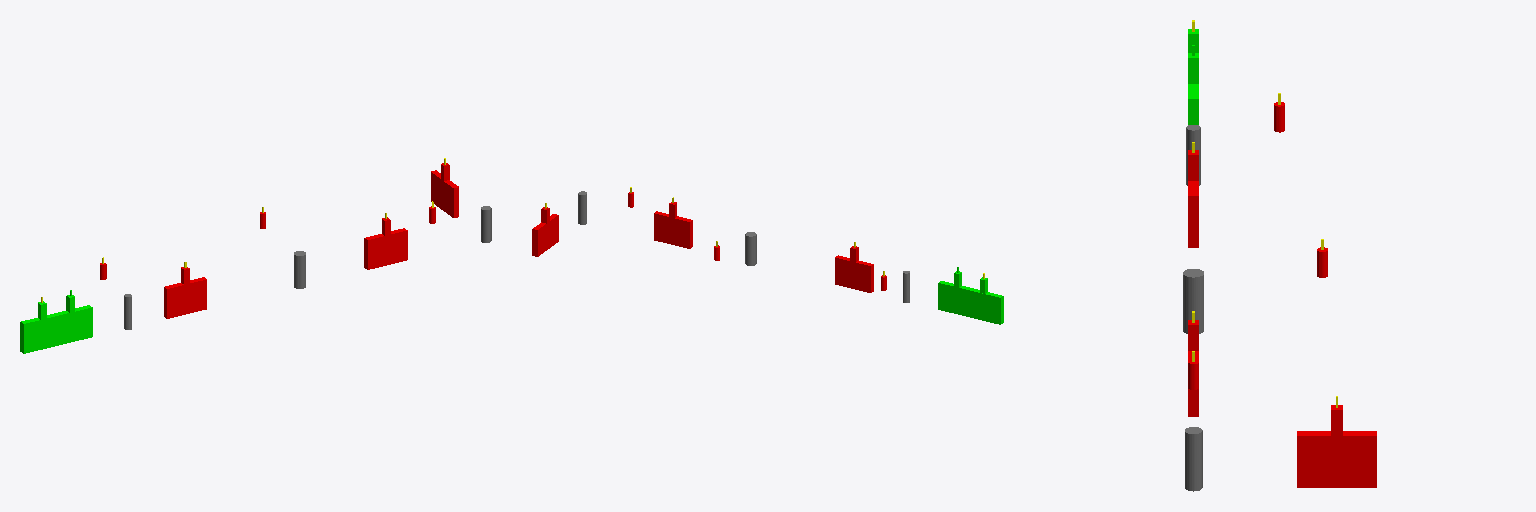
The robot description file, URDF, robot "lockbox_random3":
<?xml version="1.0"?>
<!-- created with Phobos 1.0.1 "Capricious Choutengan" -->
  <robot name="lockbox_random3">

    <link name="base_link">
    </link>

    <link name="goal">
      <visual name="visual_box_0_link_0.001">
        <origin xyz="0 0 0" rpy="0 0 0"/>
        <geometry>
          <box size="1.3976 0.1988 0.998"/>
        </geometry>
        <material name="green_translucent"/>
      </visual>
    </link>

    <link name="link_0_joint_0">
      <visual name="visual_box_0_link_0">
        <origin xyz="0 0 0" rpy="0 0 0"/>
        <geometry>
          <box size="1.399 0.199 0.999"/>
        </geometry>
        <material name="green"/>
      </visual>
      <collision name="collision_box_0_link_0">
        <origin xyz="0 0 0" rpy="0 0 0"/>
        <geometry>
          <box size="1.399 0.199 0.999"/>
        </geometry>
      </collision>
    </link>

    <link name="link_1_joint_0">
      <visual name="visual_mesh_3_link_1">
        <origin xyz="0 0 0" rpy="0 0 0"/>
        <geometry>
          <mesh filename="file://[local-path]/ba/puzzle-generator/puzzles/lockbox_random3/meshes/stl/slot_disc.stl" scale="1.0 1.0 1.0"/>
        </geometry>
        <material name="red"/>
      </visual>
      <collision concave="yes" name="collision_mesh_3_link_1">
        <origin xyz="0 0 0" rpy="0 0 0"/>
        <geometry>
          <mesh filename="file://[local-path]/ba/puzzle-generator/puzzles/lockbox_random3/meshes/stl/slot_disc.001.stl" scale="1.0 1.0 1.0"/>
        </geometry>
      </collision>
    </link>

    <link name="link_2_joint_0">
      <visual name="visual_box_7_link_2">
        <origin xyz="0 0 0" rpy="0 0 0"/>
        <geometry>
          <box size="1.399 0.199 0.999"/>
        </geometry>
        <material name="red"/>
      </visual>
      <collision name="collision_box_7_link_2">
        <origin xyz="0 0 0" rpy="0 0 0"/>
        <geometry>
          <box size="1.399 0.199 0.999"/>
        </geometry>
      </collision>
    </link>

    <link name="link_3_joint_0">
      <visual name="visual_mesh_10_link_3">
        <origin xyz="0 0 0" rpy="0 0 0"/>
        <geometry>
          <mesh filename="file://[local-path]/ba/puzzle-generator/puzzles/lockbox_random3/meshes/stl/slot_disc.002.stl" scale="1.0 1.0 1.0"/>
        </geometry>
        <material name="red"/>
      </visual>
      <collision concave="yes" name="collision_mesh_10_link_3">
        <origin xyz="0 0 0" rpy="0 0 0"/>
        <geometry>
          <mesh filename="file://[local-path]/ba/puzzle-generator/puzzles/lockbox_random3/meshes/stl/slot_disc.003.stl" scale="1.0 1.0 1.0"/>
        </geometry>
      </collision>
    </link>

    <link name="link_4_joint_0">
      <visual name="visual_box_14_link_4">
        <origin xyz="0 0 0" rpy="0 0 0"/>
        <geometry>
          <box size="1.399 0.199 0.999"/>
        </geometry>
        <material name="red"/>
      </visual>
      <collision name="collision_box_14_link_4">
        <origin xyz="0 0 0" rpy="0 0 0"/>
        <geometry>
          <box size="1.399 0.199 0.999"/>
        </geometry>
      </collision>
    </link>

    <link name="link_5_joint_0">
      <visual name="visual_mesh_17_link_5">
        <origin xyz="0 0 0" rpy="0 0 0"/>
        <geometry>
          <mesh filename="file://[local-path]/ba/puzzle-generator/puzzles/lockbox_random3/meshes/stl/slot_disc.004.stl" scale="1.0 1.0 1.0"/>
        </geometry>
        <material name="red"/>
      </visual>
      <collision concave="yes" name="collision_mesh_17_link_5">
        <origin xyz="0 0 0" rpy="0 0 0"/>
        <geometry>
          <mesh filename="file://[local-path]/ba/puzzle-generator/puzzles/lockbox_random3/meshes/stl/slot_disc.005.stl" scale="1.0 1.0 1.0"/>
        </geometry>
      </collision>
    </link>

    <link name="link_6_joint_0">
      <visual name="visual_box_21_link_6">
        <origin xyz="0 0 0" rpy="0 0 0"/>
        <geometry>
          <box size="1.399 0.199 0.999"/>
        </geometry>
        <material name="red"/>
      </visual>
      <collision name="collision_box_21_link_6">
        <origin xyz="0 0 0" rpy="0 0 0"/>
        <geometry>
          <box size="1.399 0.199 0.999"/>
        </geometry>
      </collision>
    </link>

    <link name="link_fixed_11_hinge">
      <visual name="visual_cylinder_fixed_11_hinge">
        <origin xyz="0 0 0" rpy="0 0 0"/>
        <geometry>
          <cylinder radius="0.187" length="1.099"/>
        </geometry>
        <material name="gray"/>
      </visual>
    </link>

    <link name="link_fixed_12_handle_shaft">
      <visual name="visual_cylinder_fixed_12_handle_shaft">
        <origin xyz="0 0 0" rpy="0 0 0"/>
        <geometry>
          <cylinder radius="0.0995" length="0.499"/>
        </geometry>
        <material name="red"/>
      </visual>
      <collision name="collision_cylinder_fixed_12_handle_shaft">
        <origin xyz="0 0 0" rpy="0 0 0"/>
        <geometry>
          <cylinder radius="0.0995" length="0.499"/>
        </geometry>
      </collision>
    </link>

    <link name="link_fixed_13_handle_knob">
      <visual name="visual_box_fixed_13_handle_knob">
        <origin xyz="0 0 0" rpy="0 0 0"/>
        <geometry>
          <box size="0.049 0.049 0.199"/>
        </geometry>
        <material name="yellow"/>
      </visual>
      <collision name="collision_box_fixed_13_handle_knob">
        <origin xyz="0 0 0" rpy="0 0 0"/>
        <geometry>
          <box size="0.049 0.049 0.199"/>
        </geometry>
      </collision>
    </link>

    <link name="link_fixed_15_handle_shaft">
      <visual name="visual_box_fixed_15_handle_shaft">
        <origin xyz="0 0 0" rpy="0 0 0"/>
        <geometry>
          <box size="0.199 0.199 0.499"/>
        </geometry>
        <material name="red"/>
      </visual>
      <collision name="collision_box_fixed_15_handle_shaft">
        <origin xyz="0 0 0" rpy="0 0 0"/>
        <geometry>
          <box size="0.199 0.199 0.499"/>
        </geometry>
      </collision>
    </link>

    <link name="link_fixed_16_handle_knob">
      <visual name="visual_box_fixed_16_handle_knob">
        <origin xyz="0 0 0" rpy="0 0 0"/>
        <geometry>
          <box size="0.049 0.049 0.199"/>
        </geometry>
        <material name="yellow"/>
      </visual>
      <collision name="collision_box_fixed_16_handle_knob">
        <origin xyz="0 0 0" rpy="0 0 0"/>
        <geometry>
          <box size="0.049 0.049 0.199"/>
        </geometry>
      </collision>
    </link>

    <link name="link_fixed_18_hinge">
      <visual name="visual_cylinder_fixed_18_hinge">
        <origin xyz="0 0 0" rpy="0 0 0"/>
        <geometry>
          <cylinder radius="0.15575" length="1.099"/>
        </geometry>
        <material name="gray"/>
      </visual>
    </link>

    <link name="link_fixed_19_handle_shaft">
      <visual name="visual_cylinder_fixed_19_handle_shaft">
        <origin xyz="0 0 0" rpy="0 0 0"/>
        <geometry>
          <cylinder radius="0.0995" length="0.499"/>
        </geometry>
        <material name="red"/>
      </visual>
      <collision name="collision_cylinder_fixed_19_handle_shaft">
        <origin xyz="0 0 0" rpy="0 0 0"/>
        <geometry>
          <cylinder radius="0.0995" length="0.499"/>
        </geometry>
      </collision>
    </link>

    <link name="link_fixed_1_handle_shaft">
      <visual name="visual_box_fixed_1_handle_shaft">
        <origin xyz="0 0 0" rpy="0 0 0"/>
        <geometry>
          <box size="0.199 0.199 0.499"/>
        </geometry>
        <material name="green"/>
      </visual>
      <collision name="collision_box_fixed_1_handle_shaft">
        <origin xyz="0 0 0" rpy="0 0 0"/>
        <geometry>
          <box size="0.199 0.199 0.499"/>
        </geometry>
      </collision>
    </link>

    <link name="link_fixed_1_handle_shaft.001">
      <visual name="visual_box_fixed_1_handle_shaft.001">
        <origin xyz="0 0 0" rpy="0 0 0"/>
        <geometry>
          <box size="0.1988 0.1988 0.4985"/>
        </geometry>
        <material name="green_translucent"/>
      </visual>
    </link>

    <link name="link_fixed_20_handle_knob">
      <visual name="visual_box_fixed_20_handle_knob">
        <origin xyz="0 0 0" rpy="0 0 0"/>
        <geometry>
          <box size="0.049 0.049 0.199"/>
        </geometry>
        <material name="yellow"/>
      </visual>
      <collision name="collision_box_fixed_20_handle_knob">
        <origin xyz="0 0 0" rpy="0 0 0"/>
        <geometry>
          <box size="0.049 0.049 0.199"/>
        </geometry>
      </collision>
    </link>

    <link name="link_fixed_22_handle_shaft">
      <visual name="visual_box_fixed_22_handle_shaft">
        <origin xyz="0 0 0" rpy="0 0 0"/>
        <geometry>
          <box size="0.199 0.199 0.499"/>
        </geometry>
        <material name="red"/>
      </visual>
      <collision name="collision_box_fixed_22_handle_shaft">
        <origin xyz="0 0 0" rpy="0 0 0"/>
        <geometry>
          <box size="0.199 0.199 0.499"/>
        </geometry>
      </collision>
    </link>

    <link name="link_fixed_23_handle_knob">
      <visual name="visual_box_fixed_23_handle_knob">
        <origin xyz="0 0 0" rpy="0 0 0"/>
        <geometry>
          <box size="0.049 0.049 0.199"/>
        </geometry>
        <material name="yellow"/>
      </visual>
      <collision name="collision_box_fixed_23_handle_knob">
        <origin xyz="0 0 0" rpy="0 0 0"/>
        <geometry>
          <box size="0.049 0.049 0.199"/>
        </geometry>
      </collision>
    </link>

    <link name="link_fixed_2_handle_knob">
      <visual name="visual_box_fixed_2_handle_knob">
        <origin xyz="0 0 0" rpy="0 0 0"/>
        <geometry>
          <box size="0.049 0.049 0.199"/>
        </geometry>
        <material name="yellow"/>
      </visual>
      <collision name="collision_box_fixed_2_handle_knob">
        <origin xyz="0 0 0" rpy="0 0 0"/>
        <geometry>
          <box size="0.049 0.049 0.199"/>
        </geometry>
      </collision>
    </link>

    <link name="link_fixed_2_handle_knob.001">
      <visual name="visual_box_fixed_2_handle_knob.001">
        <origin xyz="0 0 0" rpy="0 0 0"/>
        <geometry>
          <box size="0.04895 0.04895 0.1988"/>
        </geometry>
        <material name="green_translucent"/>
      </visual>
    </link>

    <link name="link_fixed_4_hinge">
      <visual name="visual_cylinder_fixed_4_hinge">
        <origin xyz="0 0 0" rpy="0 0 0"/>
        <geometry>
          <cylinder radius="0.1245" length="1.099"/>
        </geometry>
        <material name="gray"/>
      </visual>
    </link>

    <link name="link_fixed_5_handle_shaft">
      <visual name="visual_cylinder_fixed_5_handle_shaft">
        <origin xyz="0 0 0" rpy="0 0 0"/>
        <geometry>
          <cylinder radius="0.0995" length="0.499"/>
        </geometry>
        <material name="red"/>
      </visual>
      <collision name="collision_cylinder_fixed_5_handle_shaft">
        <origin xyz="0 0 0" rpy="0 0 0"/>
        <geometry>
          <cylinder radius="0.0995" length="0.499"/>
        </geometry>
      </collision>
    </link>

    <link name="link_fixed_6_handle_knob">
      <visual name="visual_box_fixed_6_handle_knob">
        <origin xyz="0 0 0" rpy="0 0 0"/>
        <geometry>
          <box size="0.049 0.049 0.199"/>
        </geometry>
        <material name="yellow"/>
      </visual>
      <collision name="collision_box_fixed_6_handle_knob">
        <origin xyz="0 0 0" rpy="0 0 0"/>
        <geometry>
          <box size="0.049 0.049 0.199"/>
        </geometry>
      </collision>
    </link>

    <link name="link_fixed_8_handle_shaft">
      <visual name="visual_box_fixed_8_handle_shaft">
        <origin xyz="0 0 0" rpy="0 0 0"/>
        <geometry>
          <box size="0.199 0.199 0.499"/>
        </geometry>
        <material name="red"/>
      </visual>
      <collision name="collision_box_fixed_8_handle_shaft">
        <origin xyz="0 0 0" rpy="0 0 0"/>
        <geometry>
          <box size="0.199 0.199 0.499"/>
        </geometry>
      </collision>
    </link>

    <link name="link_fixed_9_handle_knob">
      <visual name="visual_box_fixed_9_handle_knob">
        <origin xyz="0 0 0" rpy="0 0 0"/>
        <geometry>
          <box size="0.049 0.049 0.199"/>
        </geometry>
        <material name="yellow"/>
      </visual>
      <collision name="collision_box_fixed_9_handle_knob">
        <origin xyz="0 0 0" rpy="0 0 0"/>
        <geometry>
          <box size="0.049 0.049 0.199"/>
        </geometry>
      </collision>
    </link>

    <joint name="goal" type="fixed">
      <origin xyz="1.0 0 0.5" rpy="0 0 0"/>
      <parent link="base_link"/>
      <child link="goal"/>
      <limit effort="0" velocity="0"/>
    </joint>

    <joint name="link_0_joint_0" type="prismatic">
      <origin xyz="0 0 0.5" rpy="0 0 0"/>
      <parent link="base_link"/>
      <child link="link_0_joint_0"/>
      <axis xyz="1.0 0 0"/>
      <limit lower="0" upper="1.0" effort="0" velocity="0"/>
    </joint>

    <joint name="link_1_joint_0" type="revolute">
      <origin xyz="3.0 0 0.5" rpy="0 0 0"/>
      <parent link="base_link"/>
      <child link="link_1_joint_0"/>
      <axis xyz="0 0 1.0"/>
      <limit lower="-3.14159" upper="3.14159" effort="0" velocity="0"/>
    </joint>

    <joint name="link_2_joint_0" type="prismatic">
      <origin xyz="5.0 0 0.5" rpy="0 0 0"/>
      <parent link="base_link"/>
      <child link="link_2_joint_0"/>
      <axis xyz="1.0 0 0"/>
      <limit lower="0" upper="1.0" effort="0" velocity="0"/>
    </joint>

    <joint name="link_3_joint_0" type="revolute">
      <origin xyz="9.0 0 0.5" rpy="0 0 0"/>
      <parent link="base_link"/>
      <child link="link_3_joint_0"/>
      <axis xyz="0 0 1.0"/>
      <limit lower="-3.14159" upper="3.14159" effort="0" velocity="0"/>
    </joint>

    <joint name="link_4_joint_0" type="prismatic">
      <origin xyz="12.0 0 0.5" rpy="0 0 0"/>
      <parent link="base_link"/>
      <child link="link_4_joint_0"/>
      <axis xyz="1.0 0 0"/>
      <limit lower="0" upper="1.0" effort="0" velocity="0"/>
    </joint>

    <joint name="link_5_joint_0" type="revolute">
      <origin xyz="15.5 0 0.5" rpy="0 0 1.5708"/>
      <parent link="base_link"/>
      <child link="link_5_joint_0"/>
      <axis xyz="0 0 1.0"/>
      <limit lower="-3.14159" upper="3.14159" effort="0" velocity="0"/>
    </joint>

    <joint name="link_6_joint_0" type="prismatic">
      <origin xyz="15.5 2.5 0.5" rpy="0 0 1.5708"/>
      <parent link="base_link"/>
      <child link="link_6_joint_0"/>
      <axis xyz="1.0 0 0"/>
      <limit lower="0" upper="1.0" effort="0" velocity="0"/>
    </joint>

    <joint name="link_fixed_11_hinge" type="fixed">
      <origin xyz="0 0 0" rpy="0 0 0"/>
      <parent link="link_3_joint_0"/>
      <child link="link_fixed_11_hinge"/>
    </joint>

    <joint name="link_fixed_12_handle_shaft" type="fixed">
      <origin xyz="0 2.25 0.75" rpy="0 0 0"/>
      <parent link="link_3_joint_0"/>
      <child link="link_fixed_12_handle_shaft"/>
    </joint>

    <joint name="link_fixed_13_handle_knob" type="fixed">
      <origin xyz="0 0 0.35" rpy="0 0 0"/>
      <parent link="link_fixed_12_handle_shaft"/>
      <child link="link_fixed_13_handle_knob"/>
    </joint>

    <joint name="link_fixed_15_handle_shaft" type="fixed">
      <origin xyz="0 0 0.75" rpy="0 0 0"/>
      <parent link="link_4_joint_0"/>
      <child link="link_fixed_15_handle_shaft"/>
    </joint>

    <joint name="link_fixed_16_handle_knob" type="fixed">
      <origin xyz="0 0 0.35" rpy="0 0 0"/>
      <parent link="link_fixed_15_handle_shaft"/>
      <child link="link_fixed_16_handle_knob"/>
    </joint>

    <joint name="link_fixed_18_hinge" type="fixed">
      <origin xyz="0 0 0" rpy="0 0 0"/>
      <parent link="link_5_joint_0"/>
      <child link="link_fixed_18_hinge"/>
    </joint>

    <joint name="link_fixed_19_handle_shaft" type="fixed">
      <origin xyz="0 1.875 0.75" rpy="0 0 0"/>
      <parent link="link_5_joint_0"/>
      <child link="link_fixed_19_handle_shaft"/>
    </joint>

    <joint name="link_fixed_1_handle_shaft" type="fixed">
      <origin xyz="0 0 0.75" rpy="0 0 0"/>
      <parent link="link_0_joint_0"/>
      <child link="link_fixed_1_handle_shaft"/>
    </joint>

    <joint name="link_fixed_1_handle_shaft.001" type="fixed">
      <origin xyz="0 0 0.74925" rpy="0 0 0"/>
      <parent link="goal"/>
      <child link="link_fixed_1_handle_shaft.001"/>
    </joint>

    <joint name="link_fixed_20_handle_knob" type="fixed">
      <origin xyz="0 0 0.35" rpy="0 0 0"/>
      <parent link="link_fixed_19_handle_shaft"/>
      <child link="link_fixed_20_handle_knob"/>
    </joint>

    <joint name="link_fixed_22_handle_shaft" type="fixed">
      <origin xyz="0 0 0.75" rpy="0 0 0"/>
      <parent link="link_6_joint_0"/>
      <child link="link_fixed_22_handle_shaft"/>
    </joint>

    <joint name="link_fixed_23_handle_knob" type="fixed">
      <origin xyz="0 0 0.35" rpy="0 0 0"/>
      <parent link="link_fixed_22_handle_shaft"/>
      <child link="link_fixed_23_handle_knob"/>
    </joint>

    <joint name="link_fixed_2_handle_knob" type="fixed">
      <origin xyz="0 0 0.35" rpy="0 0 0"/>
      <parent link="link_fixed_1_handle_shaft"/>
      <child link="link_fixed_2_handle_knob"/>
    </joint>

    <joint name="link_fixed_2_handle_knob.001" type="fixed">
      <origin xyz="0 0 0.34965" rpy="0 0 0"/>
      <parent link="link_fixed_1_handle_shaft.001"/>
      <child link="link_fixed_2_handle_knob.001"/>
    </joint>

    <joint name="link_fixed_4_hinge" type="fixed">
      <origin xyz="0 0 0" rpy="0 0 0"/>
      <parent link="link_1_joint_0"/>
      <child link="link_fixed_4_hinge"/>
    </joint>

    <joint name="link_fixed_5_handle_shaft" type="fixed">
      <origin xyz="0 1.5 0.75" rpy="0 0 0"/>
      <parent link="link_1_joint_0"/>
      <child link="link_fixed_5_handle_shaft"/>
    </joint>

    <joint name="link_fixed_6_handle_knob" type="fixed">
      <origin xyz="0 0 0.35" rpy="0 0 0"/>
      <parent link="link_fixed_5_handle_shaft"/>
      <child link="link_fixed_6_handle_knob"/>
    </joint>

    <joint name="link_fixed_8_handle_shaft" type="fixed">
      <origin xyz="0 0 0.75" rpy="0 0 0"/>
      <parent link="link_2_joint_0"/>
      <child link="link_fixed_8_handle_shaft"/>
    </joint>

    <joint name="link_fixed_9_handle_knob" type="fixed">
      <origin xyz="0 0 0.35" rpy="0 0 0"/>
      <parent link="link_fixed_8_handle_shaft"/>
      <child link="link_fixed_9_handle_knob"/>
    </joint>

    <material name="gray">
      <color rgba="0.5 0.5 0.5 1.0"/>
    </material>

    <material name="green">
      <color rgba="0 1.0 0 1.0"/>
    </material>

    <material name="green_translucent">
      <color rgba="0 1.0 0 0.25"/>
    </material>

    <material name="red">
      <color rgba="1.0 0 0 1.0"/>
    </material>

    <material name="yellow">
      <color rgba="1.0 1.0 0 1.0"/>
    </material>

  </robot>

--- Facts derived from the render (not from the file) ---
Views: 3 orthographic renders of the robot side by side, from view 1: azimuth 30°, elevation 25°; view 2: azimuth 150°, elevation 25°; view 3: azimuth 270°, elevation 25°.
Model lockbox_random3 with 28 links and 27 joints (3 revolute, 4 prismatic, 20 fixed), rooted at base_link, posed all joints at 0.
Visible links, largest first — view 1: link_0_joint_0, link_4_joint_0, link_2_joint_0, goal, link_6_joint_0; view 2: link_0_joint_0, link_2_joint_0, link_4_joint_0, link_6_joint_0, goal; view 3: link_6_joint_0, link_fixed_11_hinge, link_fixed_18_hinge, link_2_joint_0.
Link boxes in pixels (box(x1,y1,x2,y2)): link_0_joint_0: box(20, 312, 63, 353); link_4_joint_0: box(364, 228, 407, 269); link_2_joint_0: box(164, 277, 206, 318); goal: box(61, 305, 92, 343); link_6_joint_0: box(431, 170, 458, 217); link_0_joint_0: box(964, 287, 1003, 324); link_2_joint_0: box(835, 255, 873, 292); link_4_joint_0: box(654, 211, 692, 248); link_6_joint_0: box(532, 214, 558, 256); goal: box(938, 281, 966, 315); link_6_joint_0: box(1297, 431, 1376, 487); link_fixed_11_hinge: box(1183, 269, 1203, 333); link_fixed_18_hinge: box(1185, 427, 1202, 491); link_2_joint_0: box(1188, 181, 1198, 247).
Size in the robot's own frame: 16.36 by 3.39 by 1.75 metres.
Geometry: only primitive shapes (box / cylinder / sphere) drawn; not drawn: 3 mesh visuals (reference in a form the renderer does not follow).